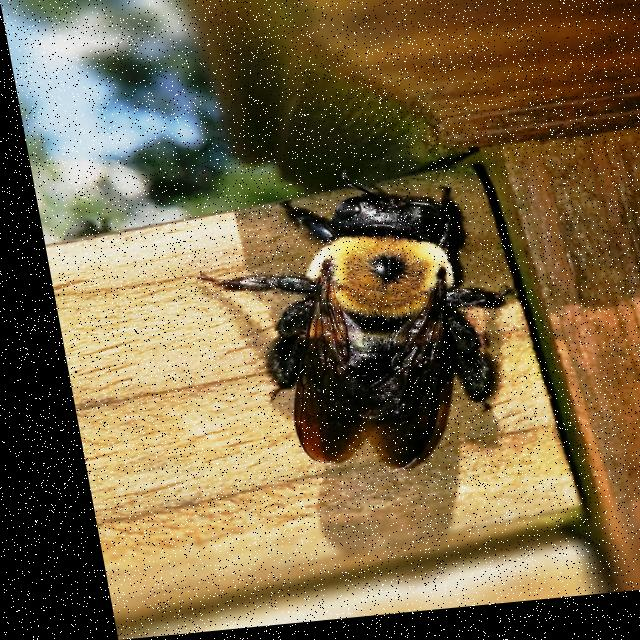Xylocopa: (156, 156, 539, 514)
